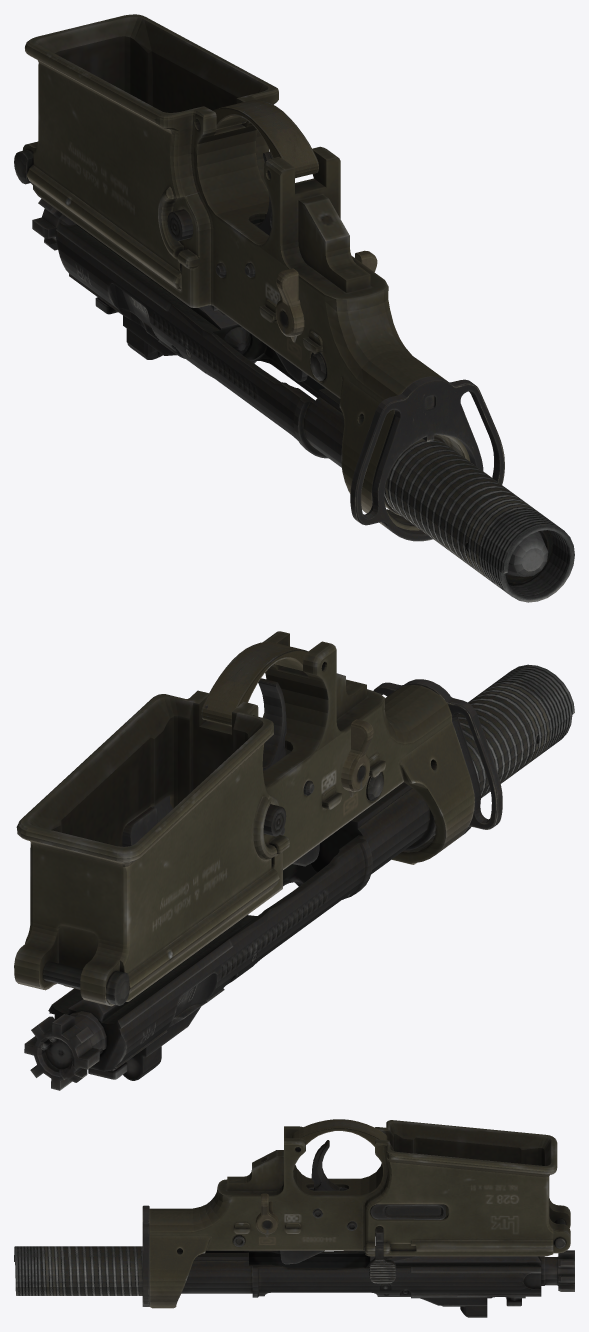
3 renders of one model, top to bottom at view 1: azimuth 30°, elevation 25°; view 2: azimuth 150°, elevation 25°; view 3: azimuth 270°, elevation 25°, orthographic. The views are drawn at different scales.
Parts seen in each view (by area): view 1: TW_6176aca650224f204c1da3fb_PZ_Import; view 2: TW_6176aca650224f204c1da3fb_PZ_Import; view 3: TW_6176aca650224f204c1da3fb_PZ_Import.
Boxes of the visible parts, x1=… form: TW_6176aca650224f204c1da3fb_PZ_Import: x1=14, y1=14, x2=574, y2=602; TW_6176aca650224f204c1da3fb_PZ_Import: x1=14, y1=631, x2=574, y2=1090; TW_6176aca650224f204c1da3fb_PZ_Import: x1=14, y1=1119, x2=574, y2=1317.
Bounding box in the file's own units: 0.0332 × 0.183 × 0.0696.
Materials: 1 (1 with a texture image).
